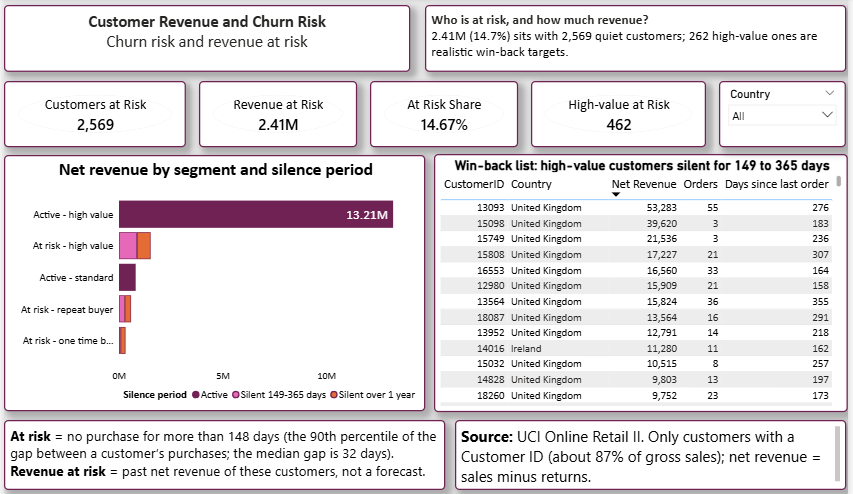

This screenshot's page, from the dashboard's own definition file:
{"tool":"powerbi","page":{"name":"Churn risk and revenue at risk","canvas":[1350,800],"ordinal":1},"visuals":[{"type":"cardVisual","fields":{"Data":["dashboard_customers.Customers at Risk Text"]},"box":[0,132.8,291.2,105.6],"z":0},{"type":"cardVisual","fields":{"Data":["dashboard_customers.At Risk Share"]},"box":[585.6,132.8,236.8,105.6],"z":1000},{"type":"cardVisual","fields":{"Data":["dashboard_customers.High-value at Risk"]},"box":[843.2,132.8,280,105.6],"z":2000},{"type":"cardVisual","fields":{"Data":["dashboard_customers.Revenue at Risk"]},"box":[312,132.8,252.8,105.6],"z":3000},{"type":"barChart","title":"At-risk net revenue by segment and silence period","fields":{"Category":["dashboard_customers.Segment"],"Y":["dashboard_customers.Total Net Revenue"],"Series":["dashboard_customers.silent_band"]},"box":[0,251.2,675.2,409.6],"z":4000},{"type":"tableEx","title":"Win-back list: high-value customers silent for 149 to 365 days","fields":{"Values":["dashboard_customers.CustomerID","dashboard_customers.Country","Sum(dashboard_customers.monetary)","Sum(dashboard_customers.frequency)","dashboard_customers.recency_days"]},"box":[688,249.6,662.4,412.8],"z":5000},{"type":"textbox","box":[673.6,11.2,673.6,107.2],"z":6000},{"type":"textbox","box":[0,11.2,649.6,107.2],"z":7000},{"type":"textbox","box":[0,675.2,705.6,112],"z":8000},{"type":"slicer","fields":{"Values":["dashboard_customers.Country"]},"box":[1144,132.8,203.2,105.6],"z":9000},{"type":"textbox","box":[721.6,675.2,625.6,112],"z":10000}]}

Visuals, with their boxes in screenshot pixels (x1, y1, x2, y2), scaled from the page's 1350x800 canvas onto the 853x494 screenshot:
cardVisual - dashboard_customers.Customers at Risk Text: region(0, 82, 184, 147)
cardVisual - dashboard_customers.At Risk Share: region(370, 82, 520, 147)
cardVisual - dashboard_customers.High-value at Risk: region(533, 82, 710, 147)
cardVisual - dashboard_customers.Revenue at Risk: region(197, 82, 357, 147)
"At-risk net revenue by segment and silence period" barChart: region(0, 155, 427, 408)
"Win-back list: high-value customers silent for 149 to 365 days" tableEx: region(435, 154, 852, 409)
textbox: region(426, 7, 851, 73)
textbox: region(0, 7, 410, 73)
textbox: region(0, 417, 446, 486)
slicer - dashboard_customers.Country: region(723, 82, 851, 147)
textbox: region(456, 417, 851, 486)
